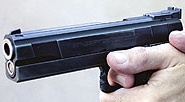pistol: (1, 5, 185, 94)
